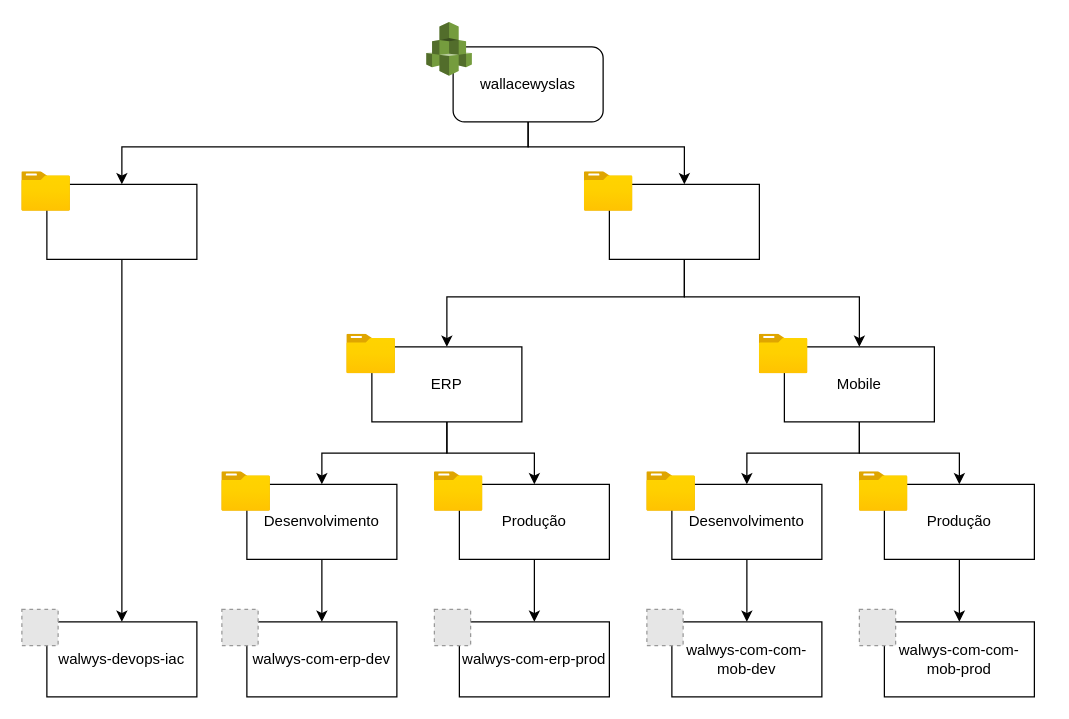
Some shapes in this 1069 by 719 pixel diagram are drawn without their labels. Grey dashed boxes stand in for pictures. Each missing label, with the centre of its shape:
"Comercial" goes at point 683,221.
"DevOps" goes at point 121,221.
